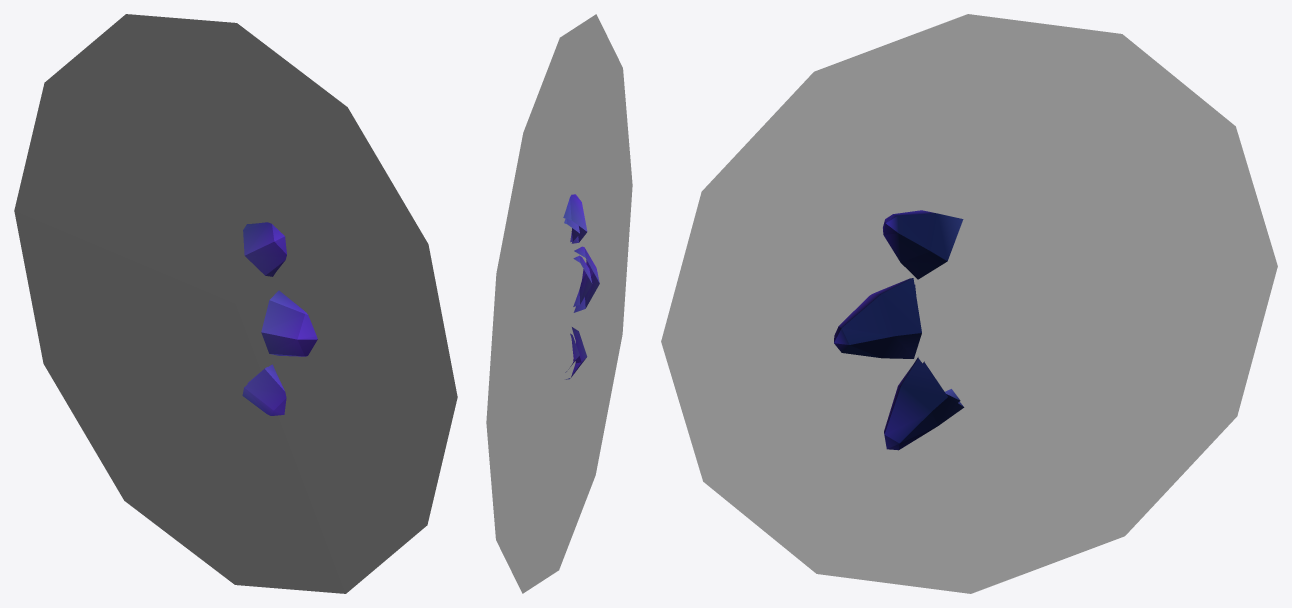
File: pref_fx_Absol_spell01B_buff01_1_lv3.fbx
3 views of the same model, side by side, from view 1: azimuth 30°, elevation 25°; view 2: azimuth 150°, elevation 25°; view 3: azimuth 270°, elevation 25° (orthographic). The views are drawn at different scales.
Parts seen in each view (by area): view 1: glow_01, 0359_nail_01_zx_B; view 2: glow_01, 0359_nail_01_zx_B, 0359_nail_01_zx_A; view 3: glow_01, 0359_nail_01_zx_B.
Boxes of the visible parts, bbox=[...] form: glow_01: bbox=[14, 14, 457, 593]; 0359_nail_01_zx_B: bbox=[242, 222, 317, 415]; glow_01: bbox=[486, 14, 632, 593]; 0359_nail_01_zx_B: bbox=[563, 194, 599, 379]; 0359_nail_01_zx_A: bbox=[564, 218, 592, 372]; glow_01: bbox=[661, 14, 1277, 593]; 0359_nail_01_zx_B: bbox=[834, 210, 964, 450].
Bounding box in the file's own units: 0.1957 × 0.6996 × 0.6739.
